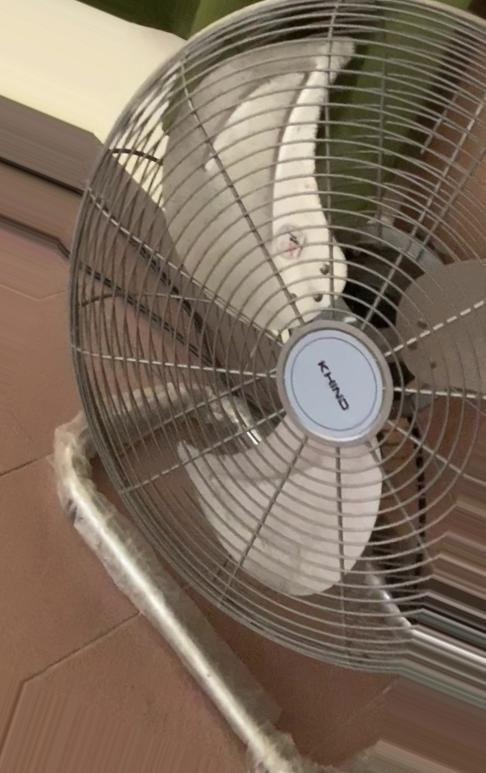fan: (36, 0, 486, 773)
